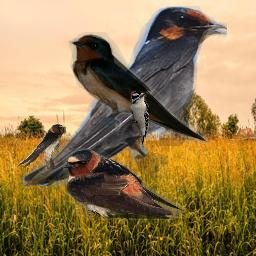Swallow: (22, 6, 227, 186), (68, 32, 209, 144), (63, 148, 185, 220), (17, 124, 66, 169)
Woodpecker: (129, 91, 149, 147)
